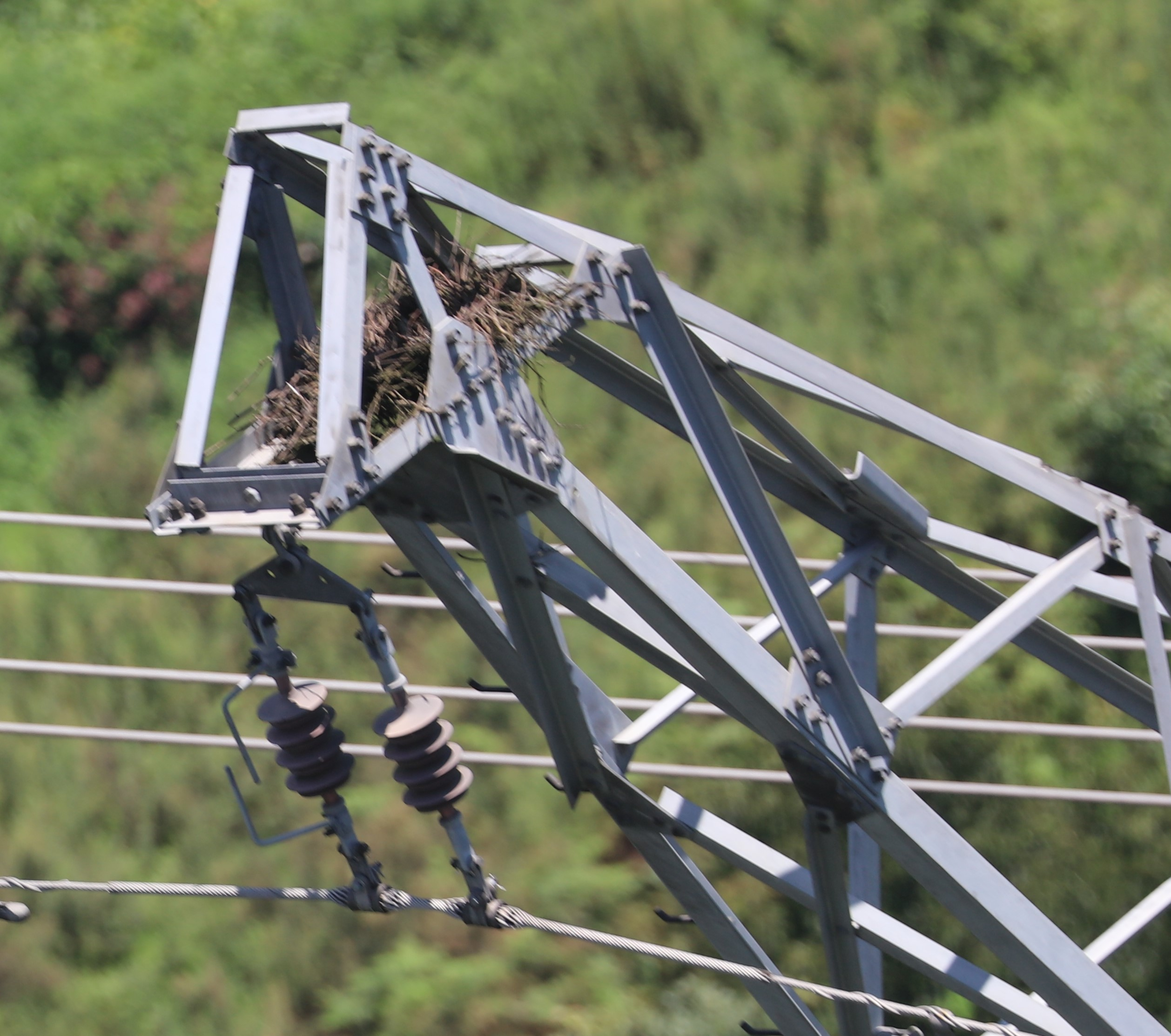nest: (261, 259, 560, 437)
